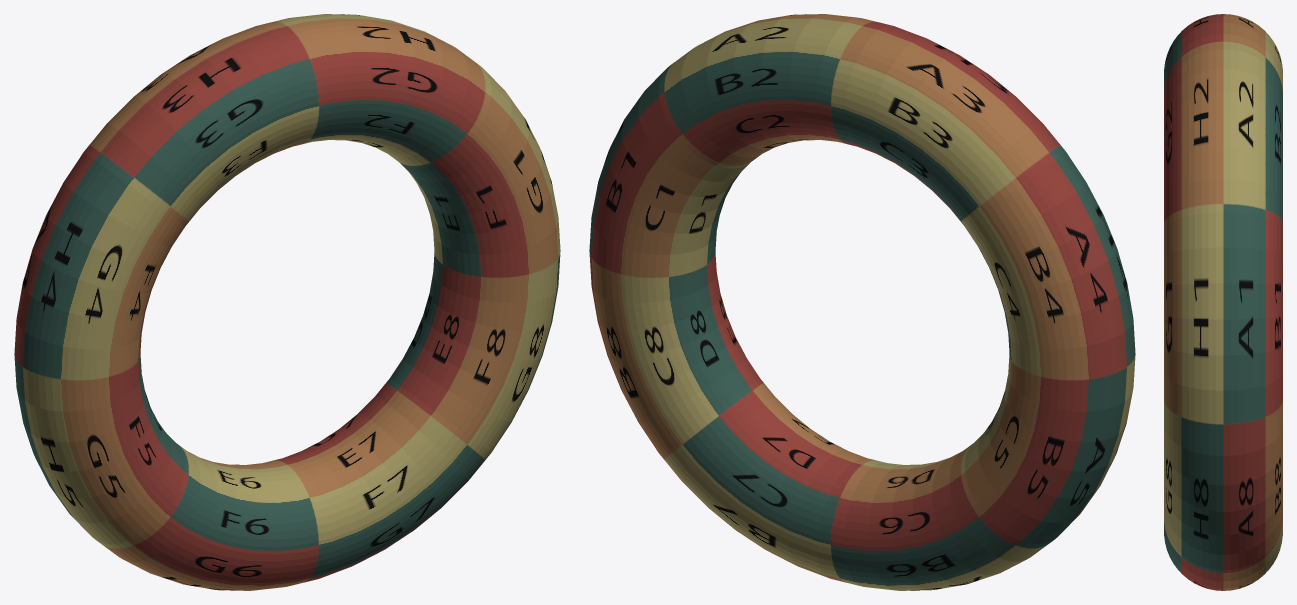
Rendered from texture_torus_R15_r12.glb.
3 renders of one model, left to right at view 1: azimuth 30°, elevation 25°; view 2: azimuth 150°, elevation 25°; view 3: azimuth 270°, elevation 25°, orthographic. The views are drawn at different scales.
Visible parts, largest first — view 1: world; view 2: world; view 3: world.
Boxes of the visible parts, x1,y1,x2,y2 form: world: (14,14,560,590); world: (589,14,1135,590); world: (1164,14,1282,590).
Size of the model in its own units: 25.2 by 25.15 by 5.19.
1 material, 1 textured.
